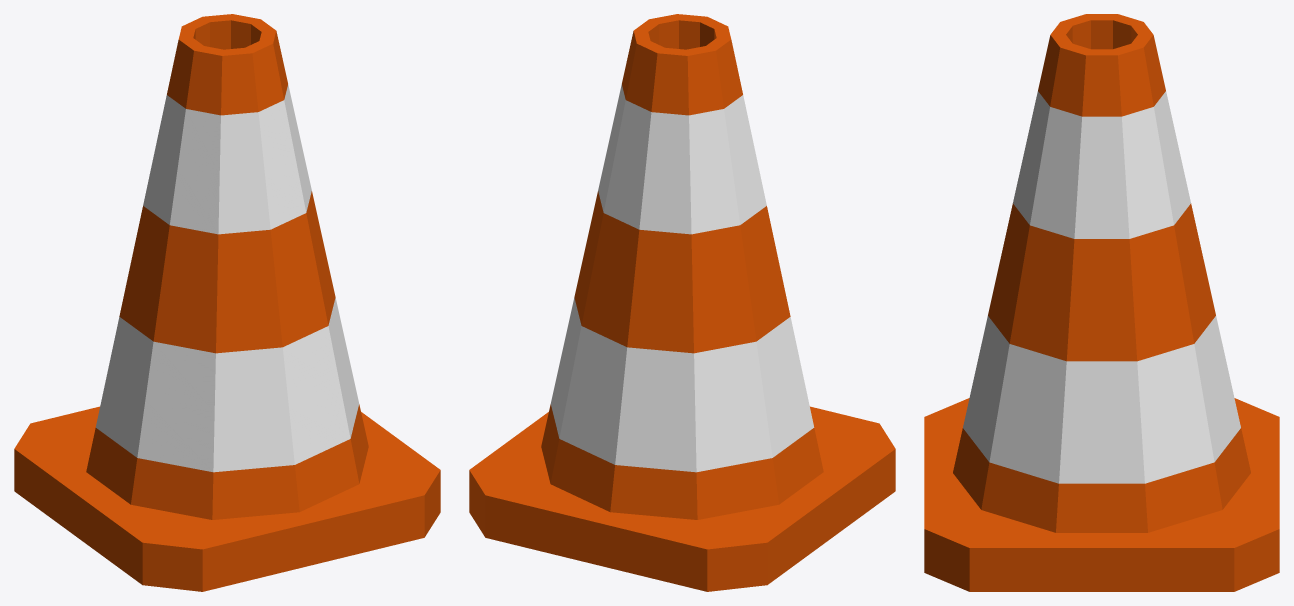
3 views of the same model, side by side, from view 1: azimuth 30°, elevation 25°; view 2: azimuth 150°, elevation 25°; view 3: azimuth 270°, elevation 25° (orthographic). The views are drawn at different scales.
Visible parts, largest first — view 1: Cone; view 2: Cone; view 3: Cone.
Part boxes in pixels (<box>): Cone: <box>14,14,440,591</box>; Cone: <box>469,14,895,591</box>; Cone: <box>924,14,1279,591</box>.
Size of the model in its own units: 36 by 53.86 by 36.
